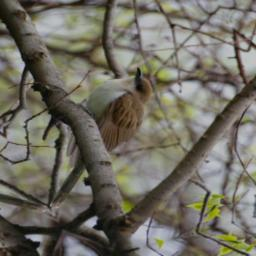Cuckoo: (0, 65, 204, 212)
